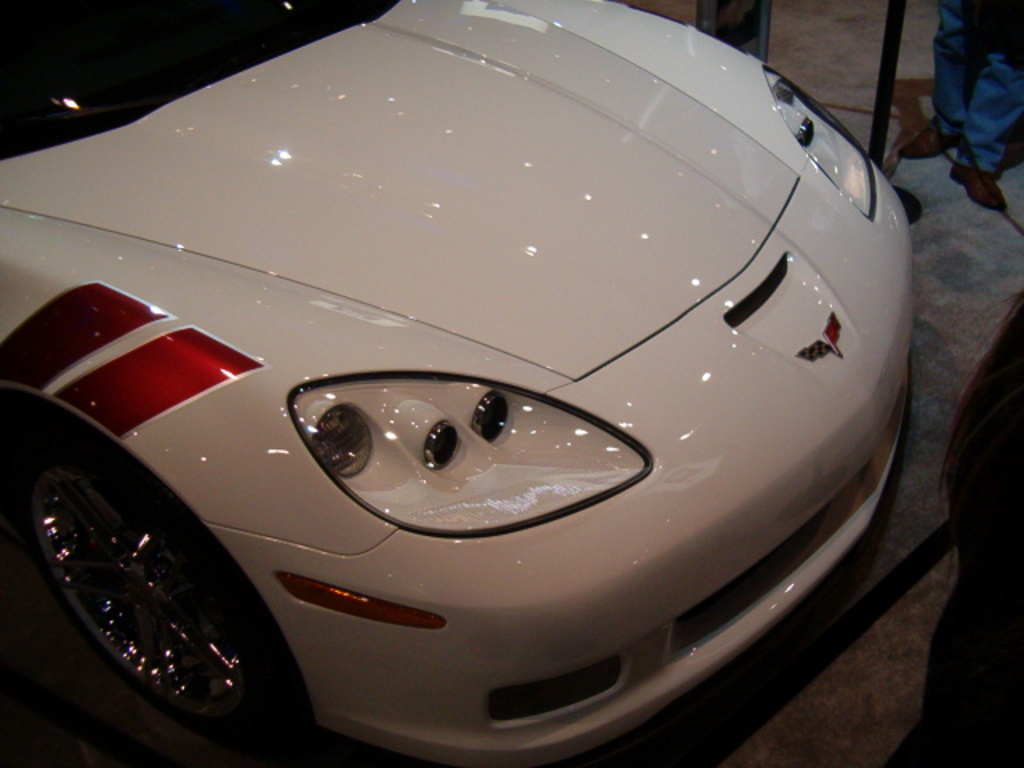cars: (0, 1, 918, 764)
